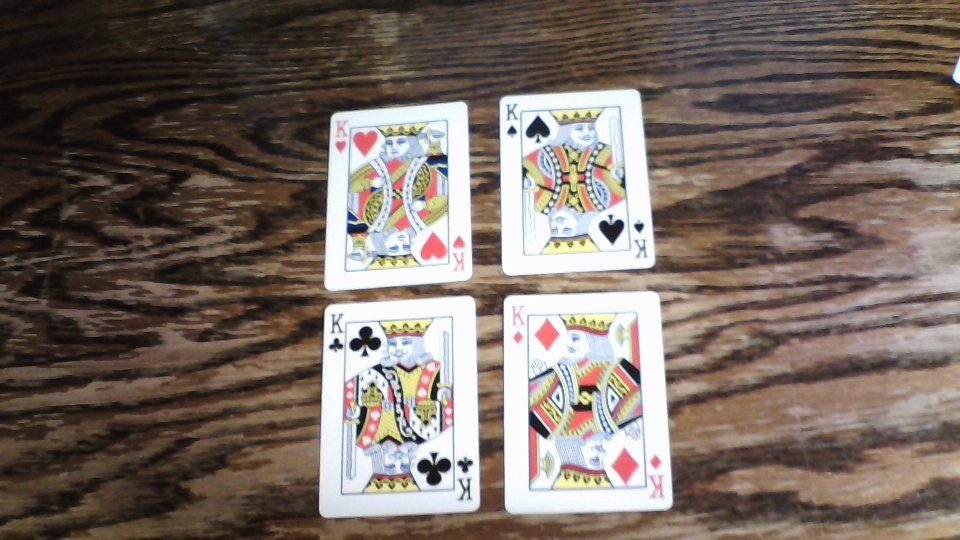king: (501, 291, 674, 513), (320, 295, 481, 516), (496, 88, 658, 277), (326, 99, 473, 291)
